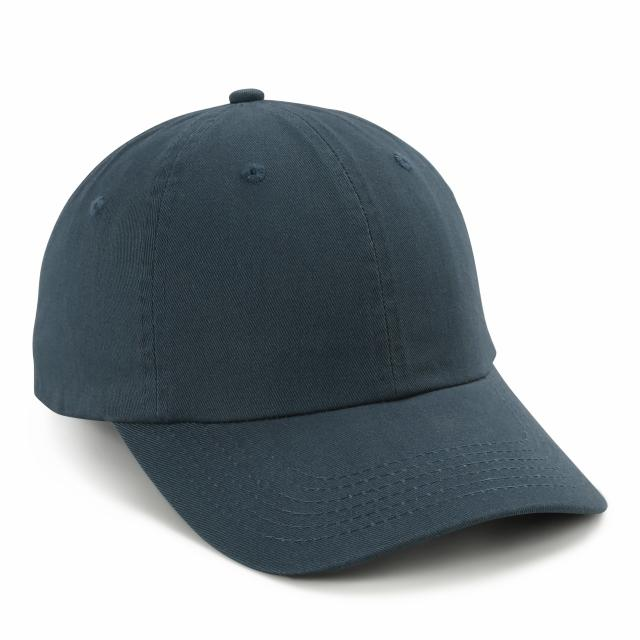mask: (35, 92, 582, 609)
